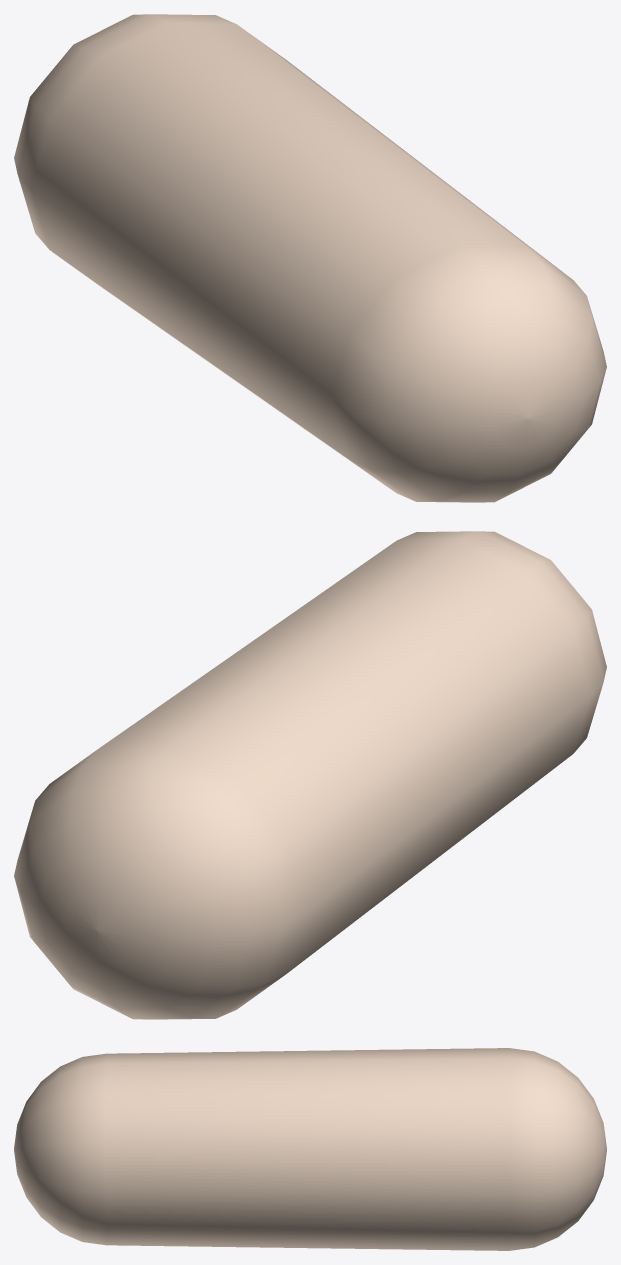
Rendered from finger_base.fbx.
The picture shows the model from 3 angles, top to bottom: view 1: azimuth 30°, elevation 25°; view 2: azimuth 150°, elevation 25°; view 3: azimuth 270°, elevation 25°; orthographic projection. The views are drawn at different scales.
Visible parts, largest first — view 1: finger_base; view 2: finger_base; view 3: finger_base.
Part boxes in pixels (left/top/right/bottom): finger_base: left=14, top=14, right=606, bottom=502; finger_base: left=14, top=531, right=606, bottom=1019; finger_base: left=14, top=1048, right=606, bottom=1250.
Size of the model in its own units: 0.0216 by 0.0199 by 0.0589.
